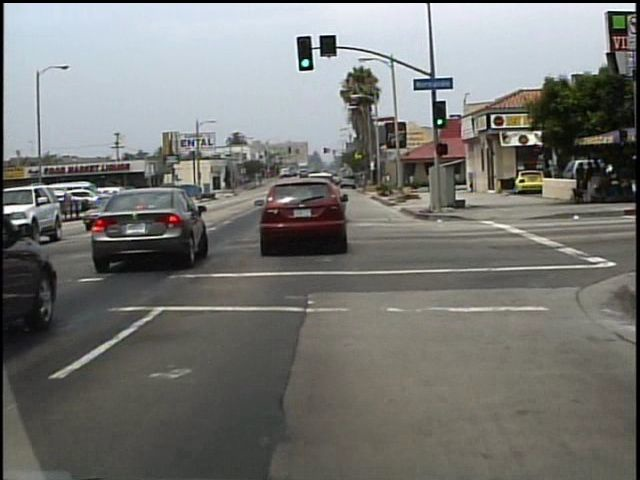person: (539, 161, 555, 198)
